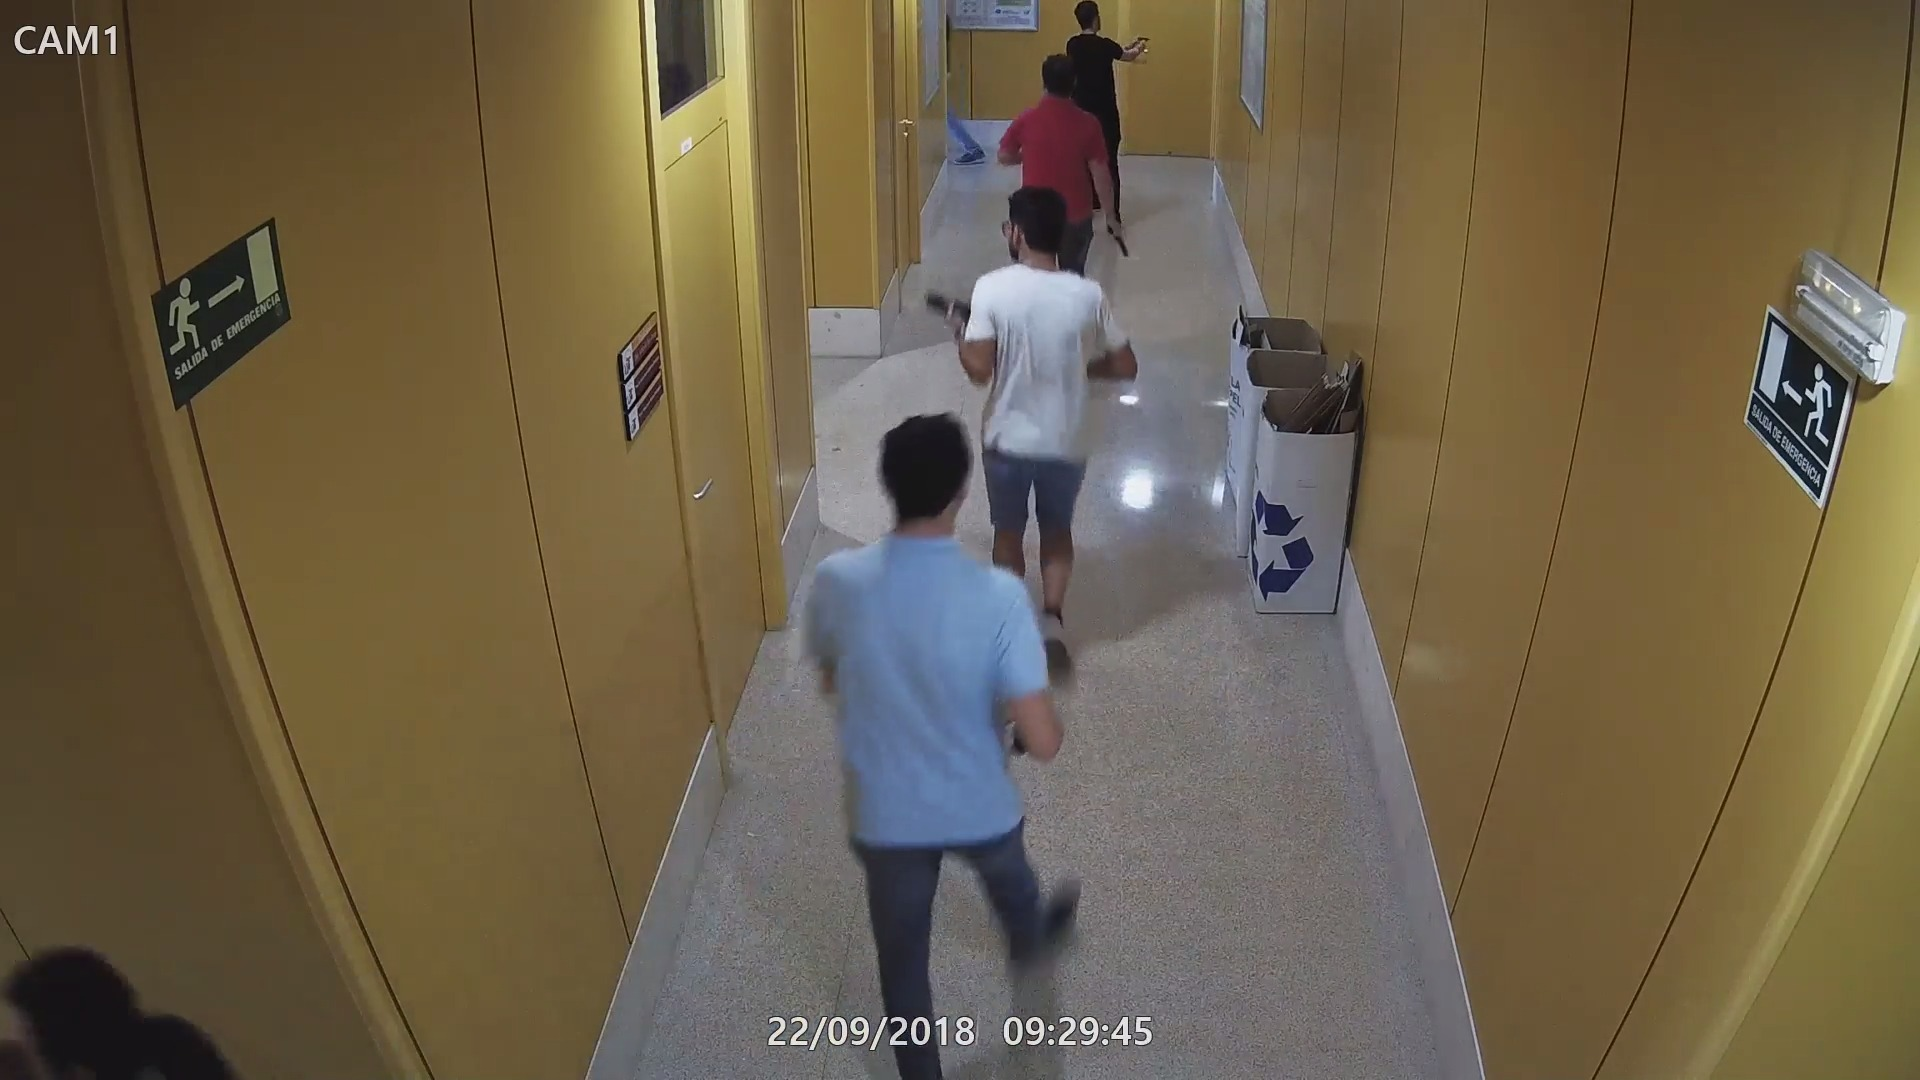Handgun: (1108, 220, 1134, 256), (1127, 30, 1154, 63)
Short_rifle: (930, 282, 973, 327)
